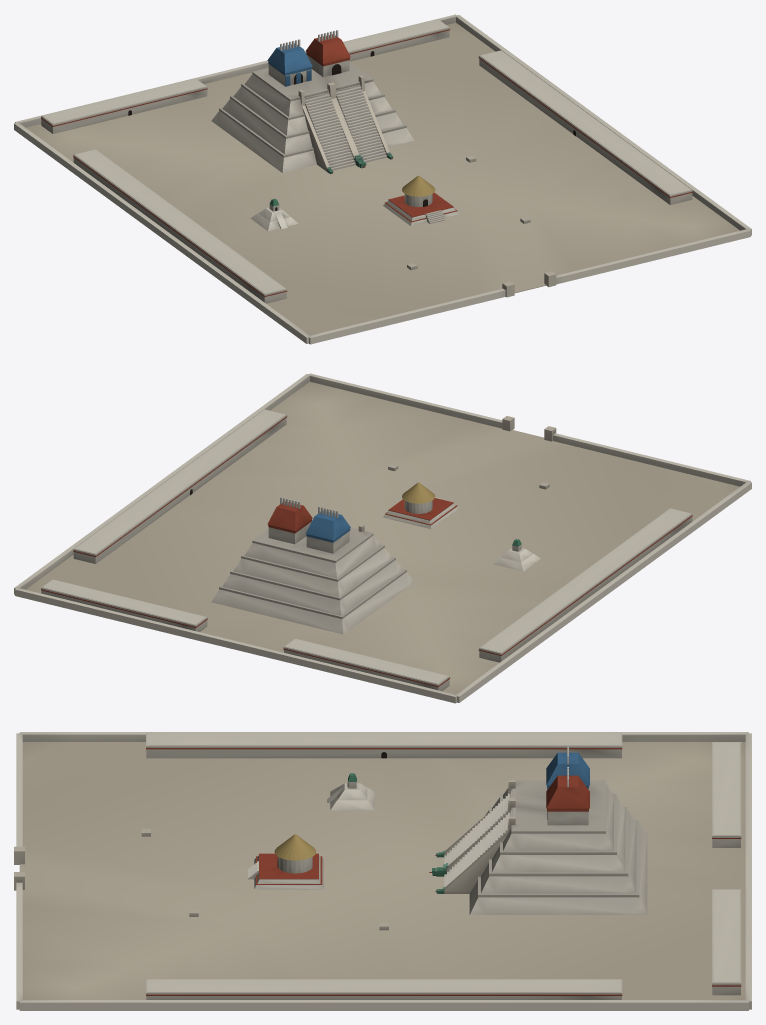
The model's file is tlatelolco-temple.glb.
The picture shows the model from 3 angles, top to bottom: view 1: azimuth 30°, elevation 25°; view 2: azimuth 150°, elevation 25°; view 3: azimuth 270°, elevation 25°; orthographic projection. The views are drawn at different scales.
Parts seen in each view (by area): view 1: p0_paving, p2_temples, p1_pyramid; view 2: p0_paving, p2_temples, p1_pyramid; view 3: p0_paving, p2_temples, p1_pyramid.
Boxes of the visible parts, <box> form: p0_paving: <box>14,14,751,344</box>; p2_temples: <box>41,19,692,303</box>; p1_pyramid: <box>211,62,414,173</box>; p0_paving: <box>14,373,751,703</box>; p2_temples: <box>41,409,692,691</box>; p1_pyramid: <box>211,518,414,634</box>; p0_paving: <box>14,732,751,1010</box>; p2_temples: <box>141,732,741,999</box>; p1_pyramid: <box>429,780,647,914</box>.
Bounding box in the file's own units: 202 × 39.67 × 233.
